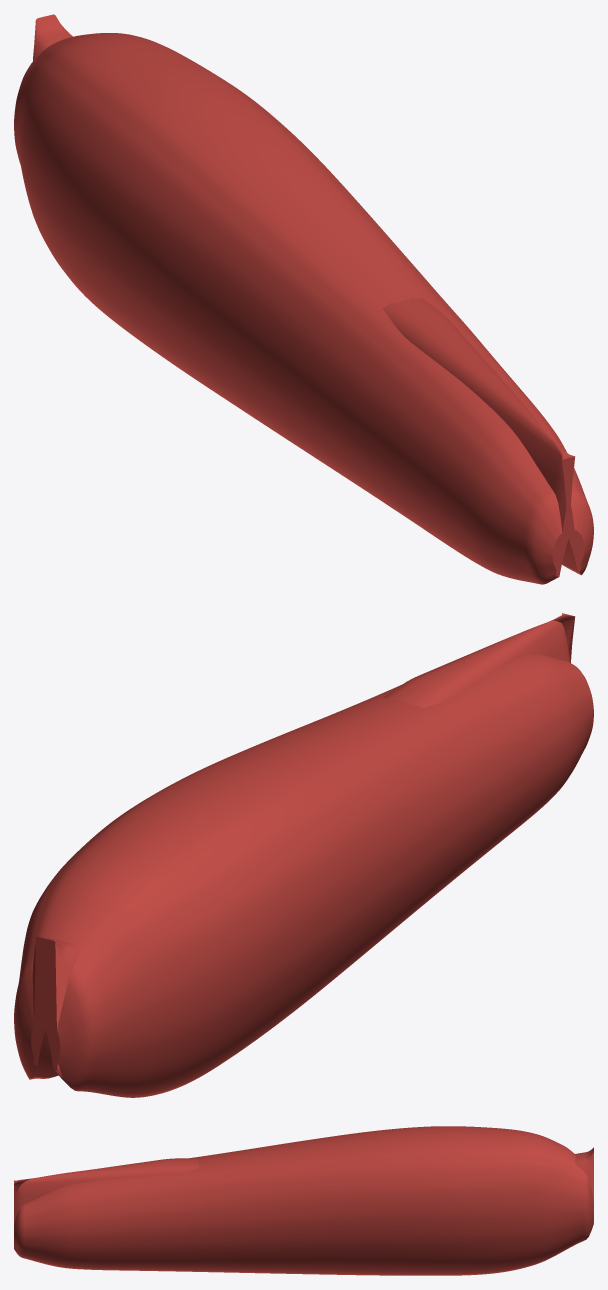
The model's file is chopper_2.glb.
The picture shows the model from 3 angles, top to bottom: view 1: azimuth 30°, elevation 25°; view 2: azimuth 150°, elevation 25°; view 3: azimuth 270°, elevation 25°; orthographic projection. The views are drawn at different scales.
Parts seen in each view (by area): view 1: lod0; view 2: lod0; view 3: lod0.
Boxes of the visible parts, left/top/right/bottom form: lod0: left=14, top=14, right=593, bottom=584; lod0: left=14, top=613, right=593, bottom=1097; lod0: left=14, top=1126, right=593, bottom=1275.
Size of what is drawn, in the model's own units: 0.2183 by 0.2588 by 1.06.
